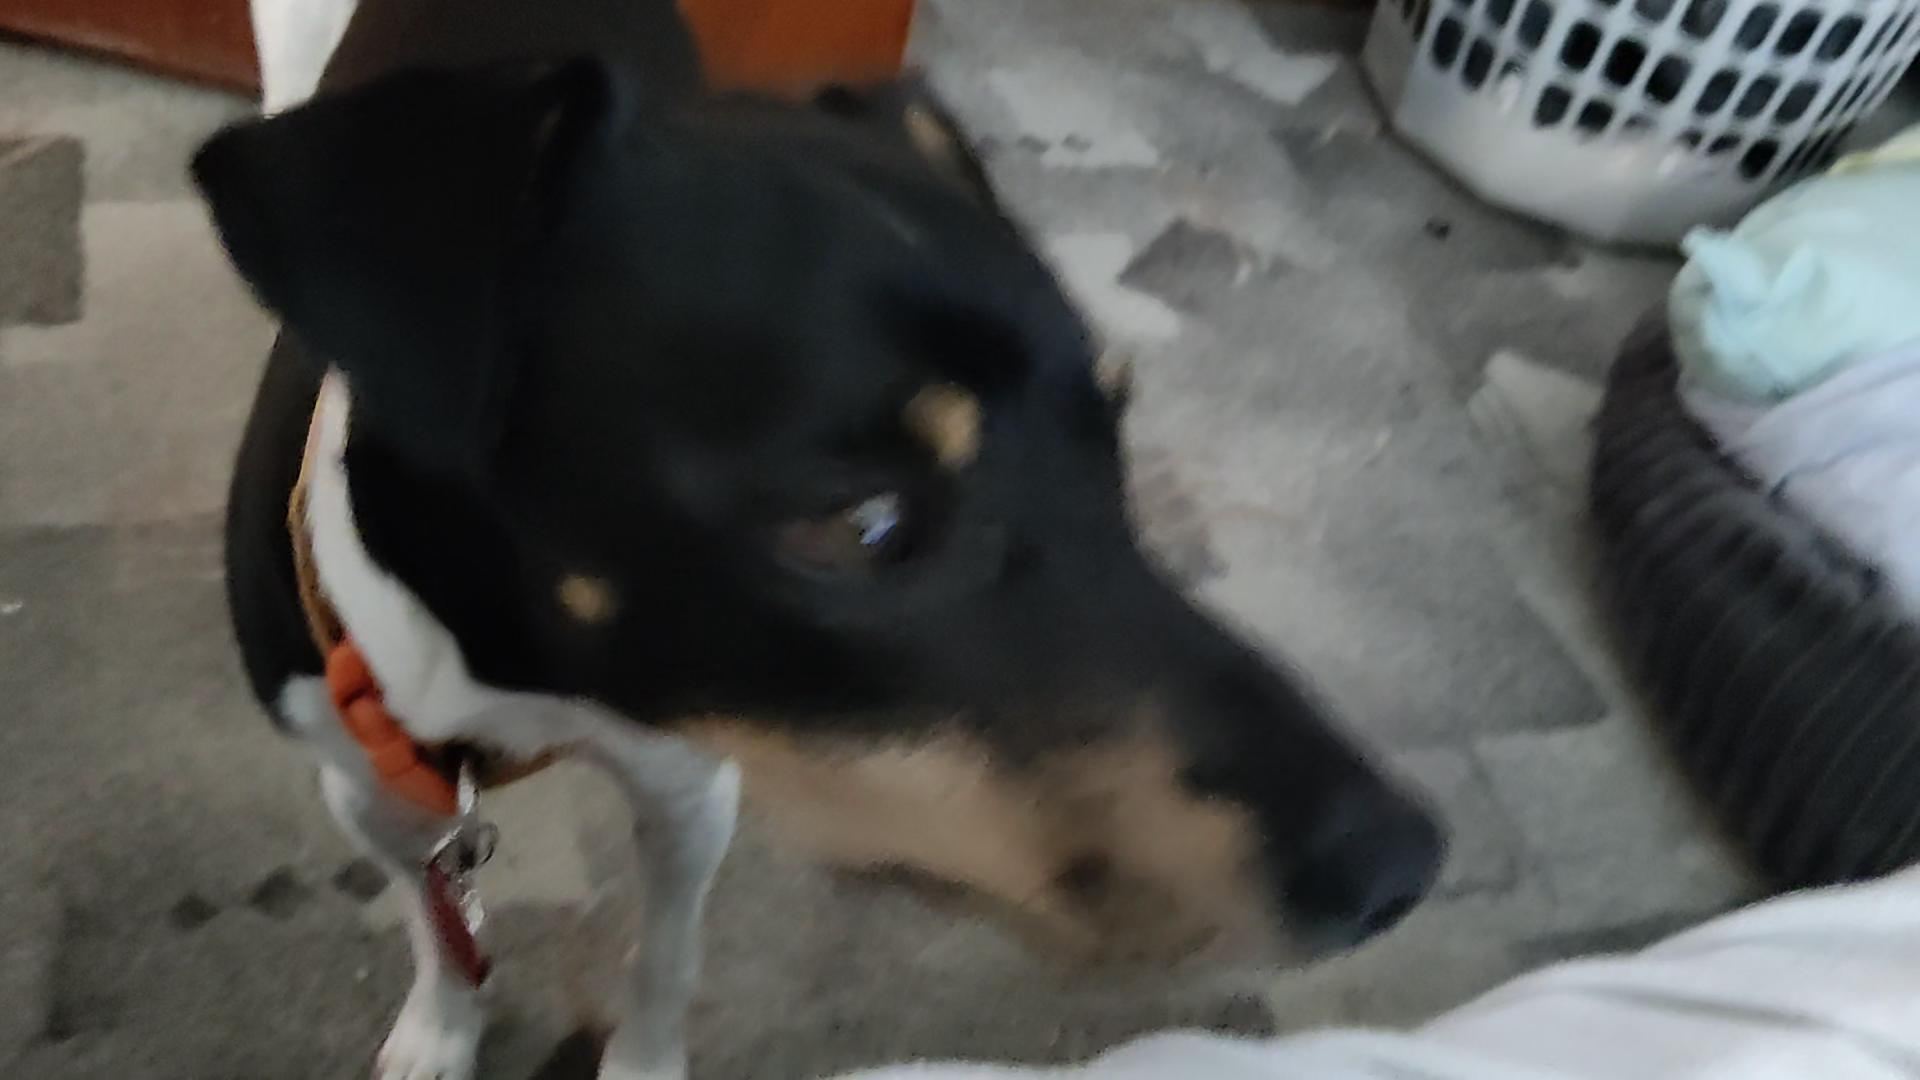Dog: (125, 0, 1480, 1079)
